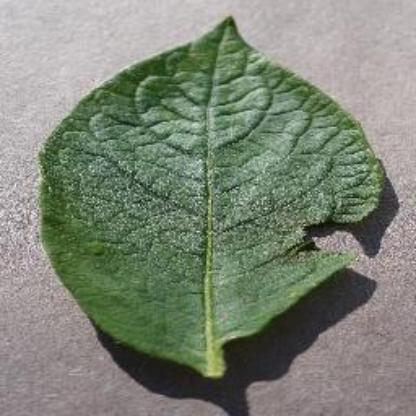Healthy-plant: (34, 14, 390, 386)
